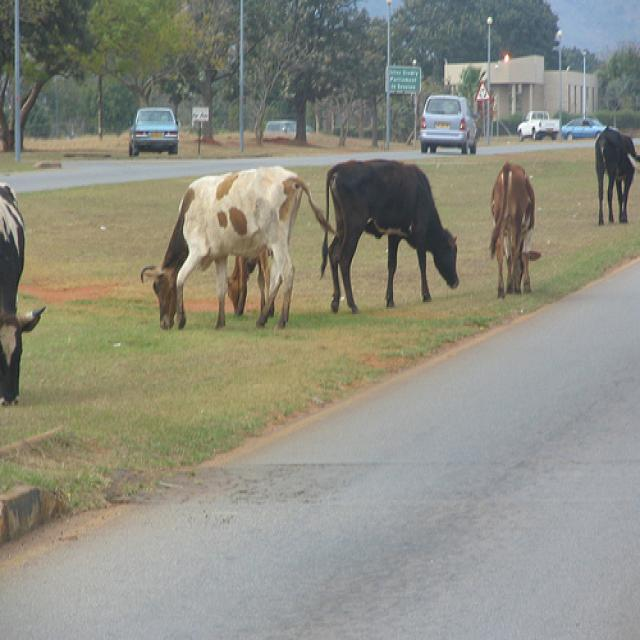car: (421, 93, 478, 155), (128, 107, 179, 160), (517, 109, 560, 143), (563, 117, 620, 141)
cow: (141, 165, 338, 330), (320, 160, 459, 312), (1, 182, 47, 405), (490, 163, 541, 298), (594, 127, 640, 225)
